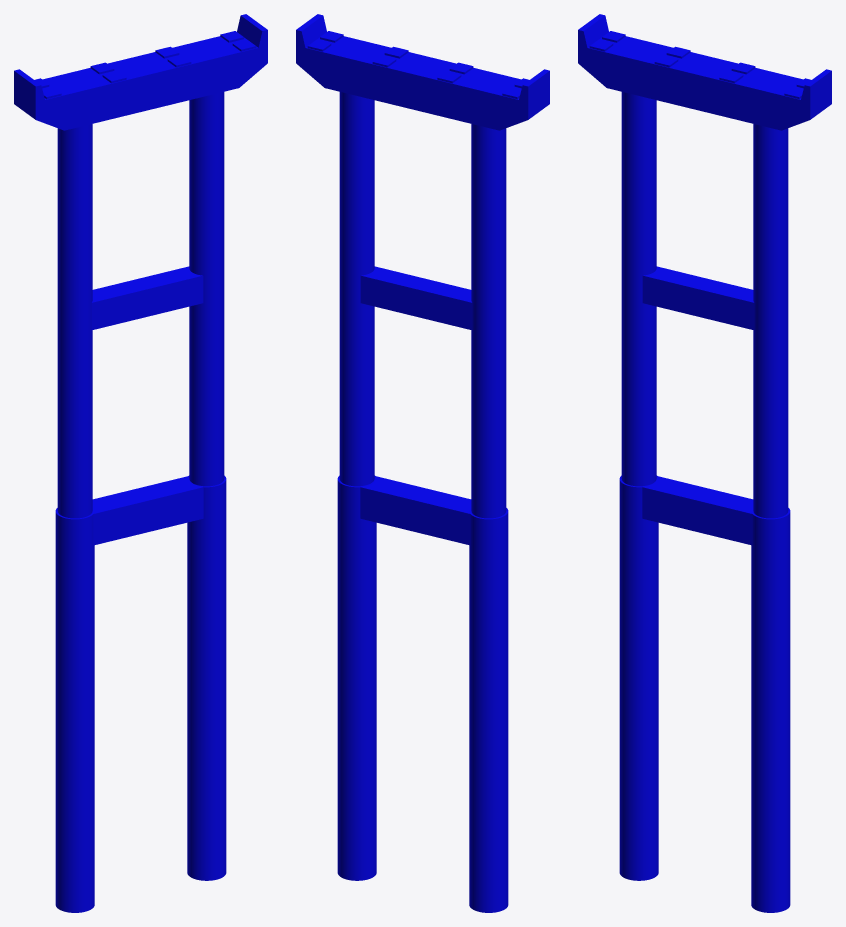
3 renders of one model, left to right at view 1: azimuth 30°, elevation 25°; view 2: azimuth 150°, elevation 25°; view 3: azimuth 330°, elevation 25°, orthographic.
Parts seen in each view (by area): view 1: [2866], [3215], [7793], [4176], [5838]; view 2: [2866], [3215], [7793], [4176], [5838]; view 3: [2866], [3215], [7793], [4176], [5838].
Boxes of the visible parts, bbox=[...] form: [2866]: bbox=[55, 475, 226, 912]; [3215]: bbox=[57, 92, 224, 518]; [7793]: bbox=[14, 14, 267, 130]; [4176]: bbox=[91, 476, 204, 545]; [5838]: bbox=[91, 266, 203, 330]; [2866]: bbox=[337, 475, 508, 912]; [3215]: bbox=[339, 92, 506, 518]; [7793]: bbox=[296, 14, 549, 130]; [4176]: bbox=[360, 476, 472, 545]; [5838]: bbox=[360, 266, 472, 330]; [2866]: bbox=[619, 475, 790, 912]; [3215]: bbox=[621, 92, 788, 518]; [7793]: bbox=[578, 14, 831, 130]; [4176]: bbox=[641, 476, 754, 545]; [5838]: bbox=[642, 266, 754, 330].
Bounding box in the file's own units: 12.35 × 42.6 × 2.
